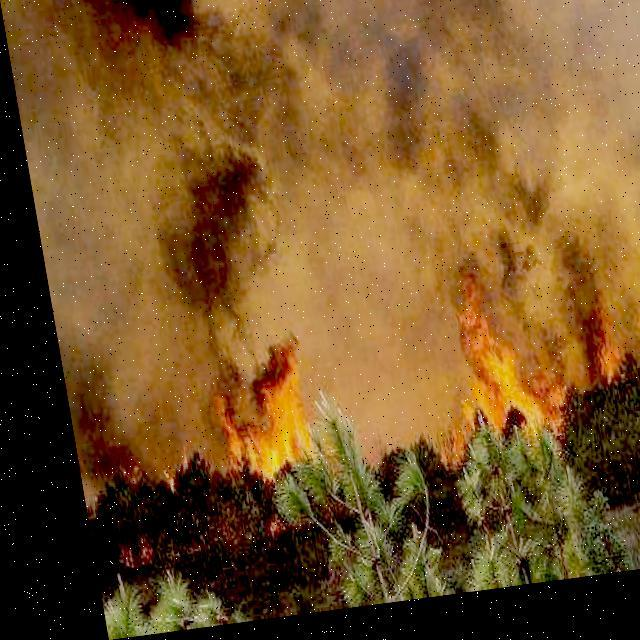Fire: (405, 260, 639, 478), (75, 358, 318, 550)
